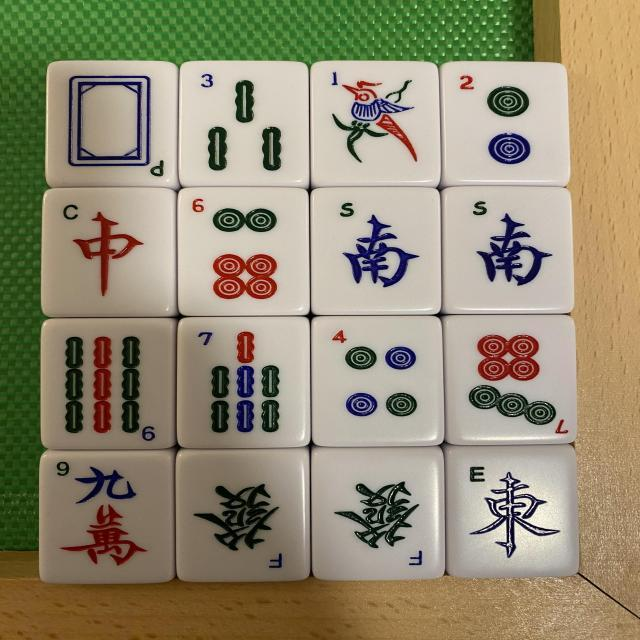hdg: (312, 449, 444, 582), (177, 448, 307, 581)
hdr: (43, 193, 175, 317)
hdw: (51, 63, 178, 187)
hwe: (448, 446, 578, 578)
hws: (311, 191, 438, 315), (445, 190, 570, 312)
sb1: (312, 64, 434, 183)
sb3: (180, 66, 304, 188)
sb7: (178, 320, 307, 450)
sb9: (42, 320, 173, 448)
sc9: (44, 450, 176, 582)
sd2: (446, 64, 568, 185)
sd4: (312, 318, 439, 448)
sd6: (178, 189, 307, 312)
sd7: (446, 314, 574, 440)
